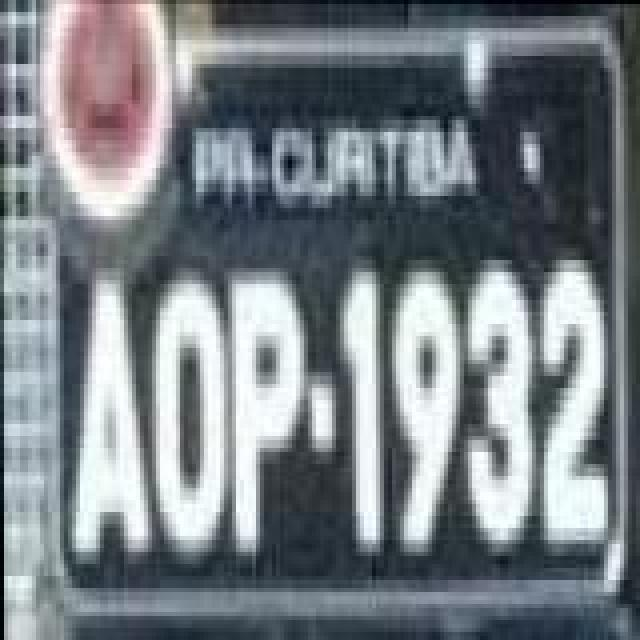1: (336, 264, 388, 548)
2: (536, 266, 612, 550)
3: (460, 258, 536, 554)
9: (388, 262, 464, 558)
A: (66, 268, 146, 564)
O: (146, 262, 226, 558)
P: (226, 276, 306, 560)
